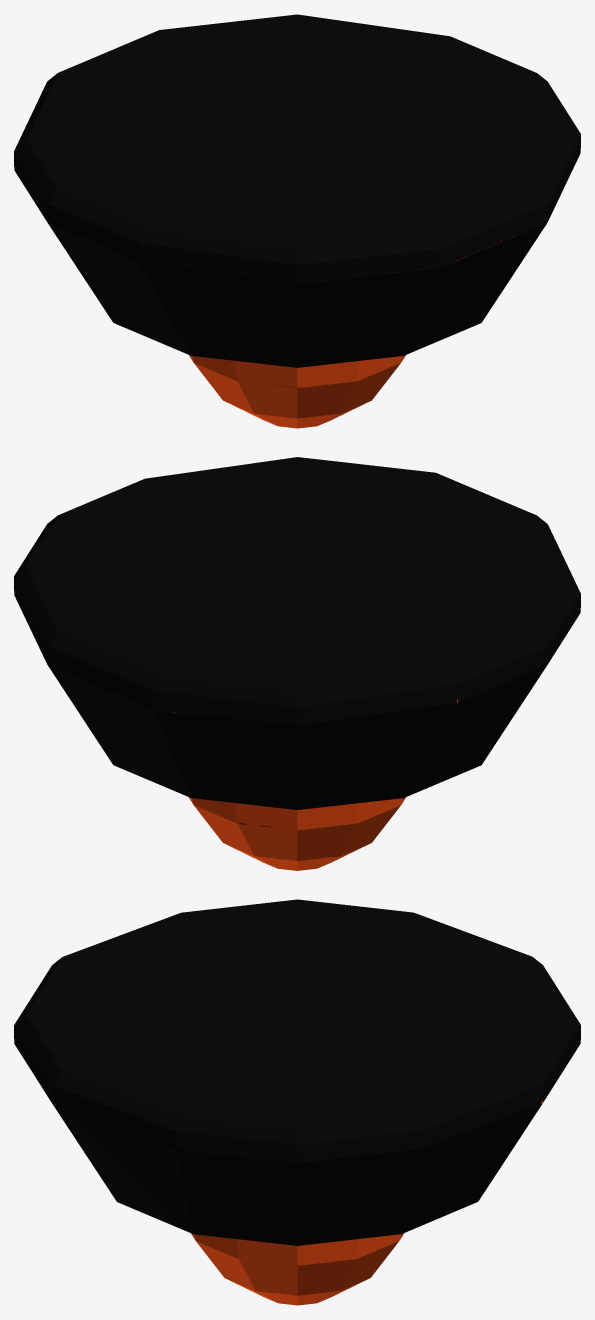
3 renders of one model, top to bottom at view 1: azimuth 30°, elevation 25°; view 2: azimuth 150°, elevation 25°; view 3: azimuth 270°, elevation 25°, orthographic.
Visible parts, largest first — view 1: bledsp1_8BD72684A52541159B0AB0977818BCF2, bledsp1_8BD72684A52541159B0AB0977818BCF2.001; view 2: bledsp1_8BD72684A52541159B0AB0977818BCF2, bledsp1_8BD72684A52541159B0AB0977818BCF2.001; view 3: bledsp1_8BD72684A52541159B0AB0977818BCF2, bledsp1_8BD72684A52541159B0AB0977818BCF2.001.
Boxes of the visible parts, bbox=[...] form: bledsp1_8BD72684A52541159B0AB0977818BCF2: bbox=[14, 14, 580, 428]; bledsp1_8BD72684A52541159B0AB0977818BCF2.001: bbox=[14, 15, 580, 427]; bledsp1_8BD72684A52541159B0AB0977818BCF2: bbox=[14, 457, 580, 870]; bledsp1_8BD72684A52541159B0AB0977818BCF2.001: bbox=[14, 457, 580, 870]; bledsp1_8BD72684A52541159B0AB0977818BCF2: bbox=[14, 899, 580, 1305]; bledsp1_8BD72684A52541159B0AB0977818BCF2.001: bbox=[14, 900, 580, 1304].
Size of the model in its own units: 326 by 181 by 326.
